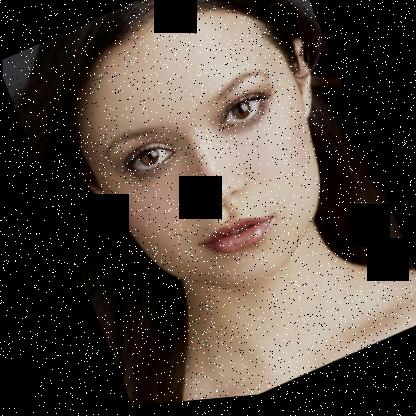Female: (37, 0, 377, 343)
